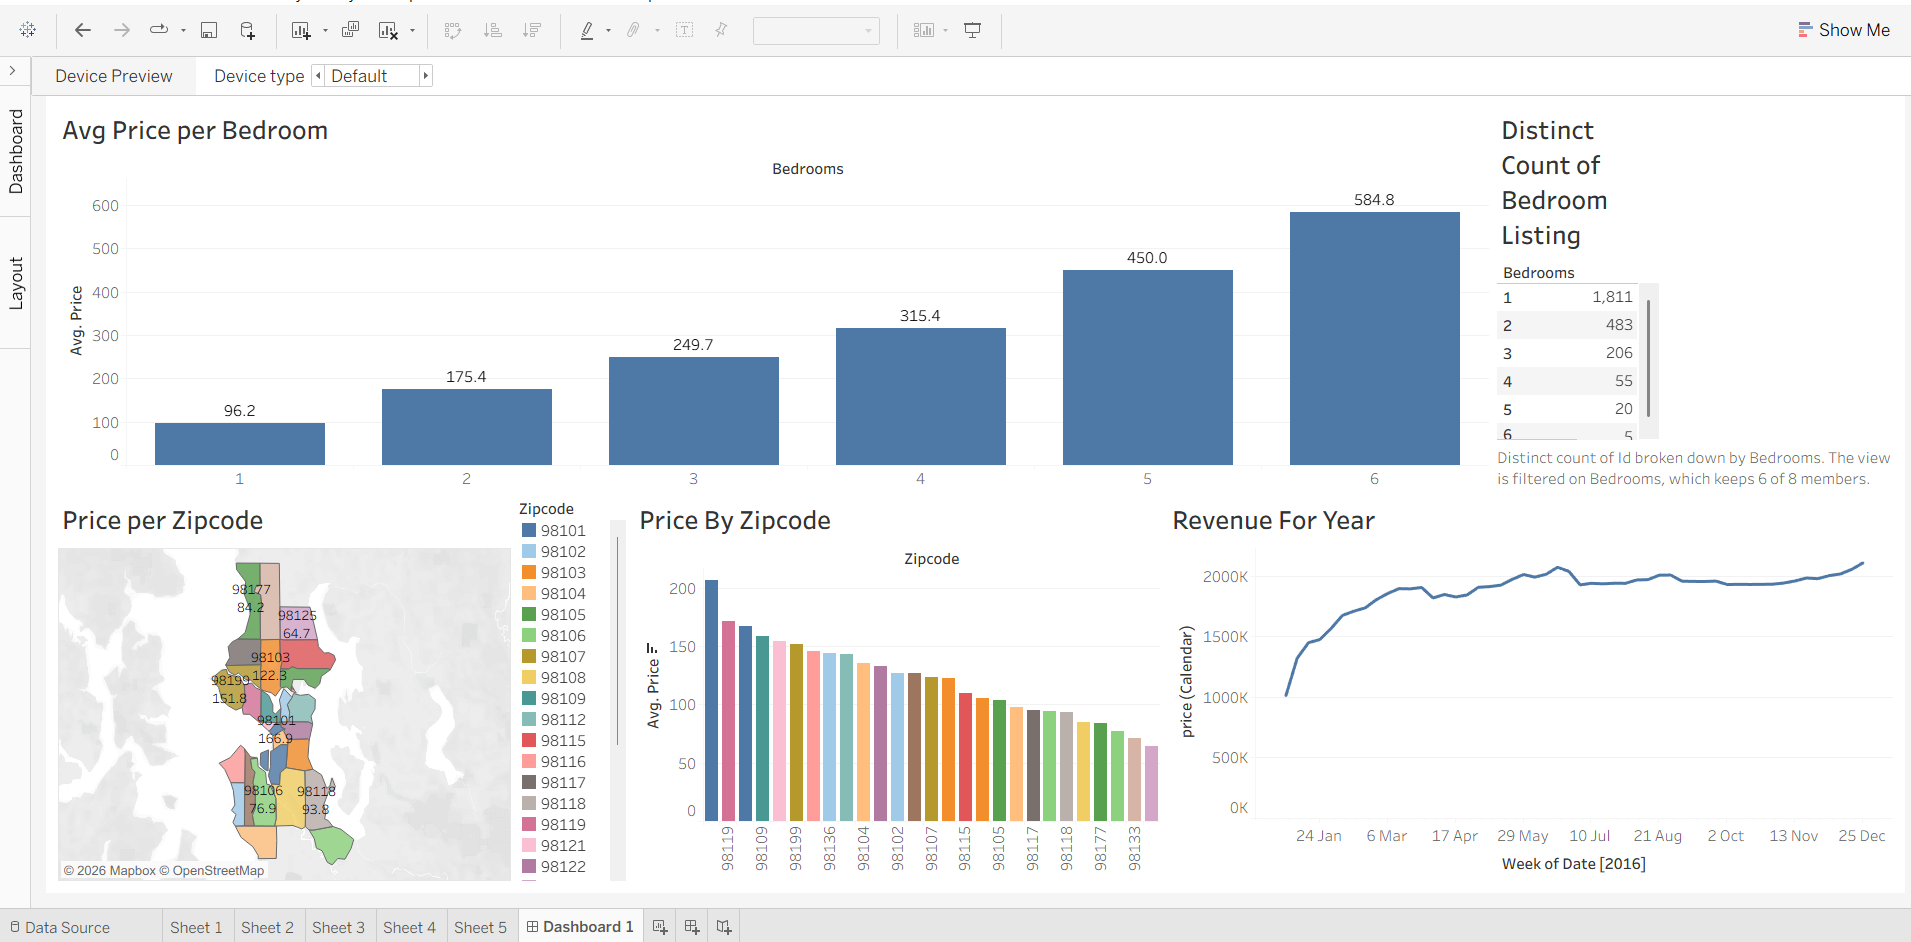

The dashboard page shown, as its layout file describes it:
{"tool":"tableau","page":{"name":"Dashboard 1","canvas":[1000,1000],"units":"permille","ordinal":0},"visuals":[{"type":"worksheet","title":"Sheet 4","mark":"Automatic","rows":["price"],"cols":["bedrooms"],"box":[4.9,10,773.4,490]},{"type":"worksheet","title":"Sheet 5","mark":"Automatic","rows":["bedrooms"],"box":[778.3,10,216.8,490]},{"type":"worksheet","title":"Sheet 2","mark":"Multipolygon","box":[4.9,500,247.6,490]},{"type":"legend","title":"Sheet 1","param":"[federated.032n64k1bsg9x51gpiqwd0uu27v5].[none:zipcode:nk]","box":[252.5,500,62.6,490]},{"type":"worksheet","title":"Sheet 1","mark":"Automatic","rows":["price"],"cols":["zipcode"],"box":[315.1,500,286.2,490]},{"type":"worksheet","title":"Sheet 3","mark":"Automatic","rows":["price (Calendar)"],"cols":["date"],"box":[601.4,500,393.7,490]}]}

Visuals, with their boxes on the dashboard's canvas, which has no fixed pixel size, in thousandths of its width and height (x1, y1, x2, y2). These are canvas units, not pixel positions in the 1911x942 screenshot, which may show the page scaled, cropped or inside an application window:
"Sheet 4" worksheet: 5/10/778/500
"Sheet 5" worksheet: 778/10/995/500
"Sheet 2" worksheet (Multipolygon marks): 5/500/252/990
"Sheet 1" legend: 252/500/315/990
"Sheet 1" worksheet: 315/500/601/990
"Sheet 3" worksheet: 601/500/995/990
